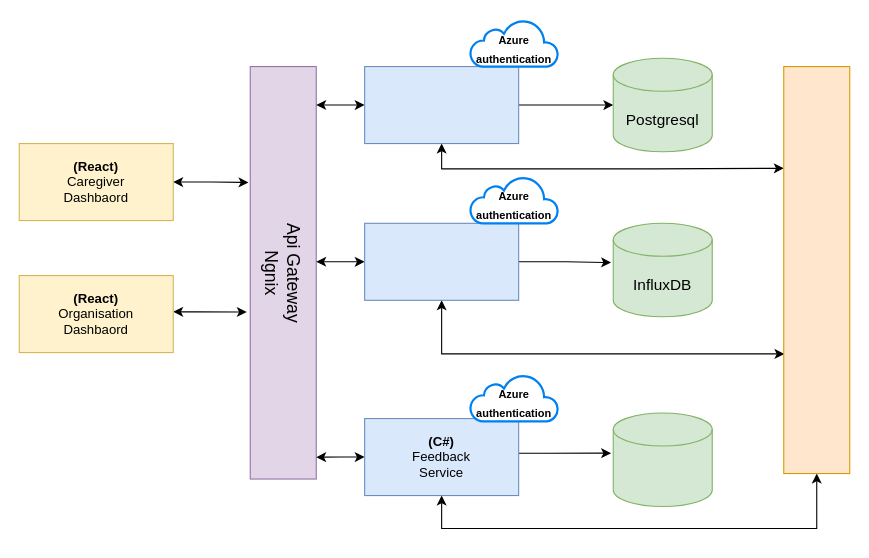
This 869x558 diagram has some shape labels left out. The shapes that lost their labels are listed below. From the top down, each one's centre as x and y in pixels, then its label:
the point at 441,104: (C#) User Service
the point at 441,261: (C#) Stress Data Service
the point at 816,269: Message Broker NATS
the point at 662,459: MongoDB
